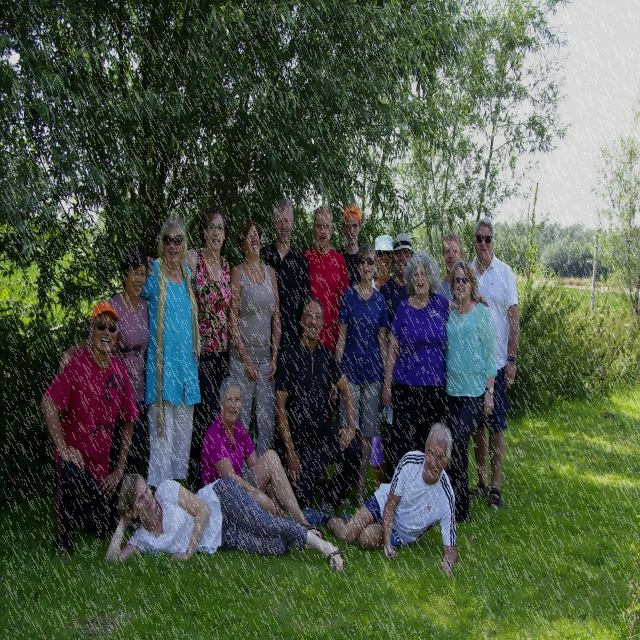pessoa: (37, 295, 140, 565), (101, 470, 348, 578), (58, 246, 150, 531), (145, 205, 234, 494), (316, 417, 462, 586), (270, 292, 367, 534), (380, 249, 490, 462), (200, 375, 324, 540), (427, 256, 500, 530), (463, 218, 522, 514), (328, 242, 390, 511), (140, 213, 200, 490), (226, 218, 284, 480), (300, 203, 350, 491), (258, 195, 314, 366), (379, 232, 417, 344), (432, 230, 466, 306), (336, 202, 363, 288), (372, 234, 396, 292)
